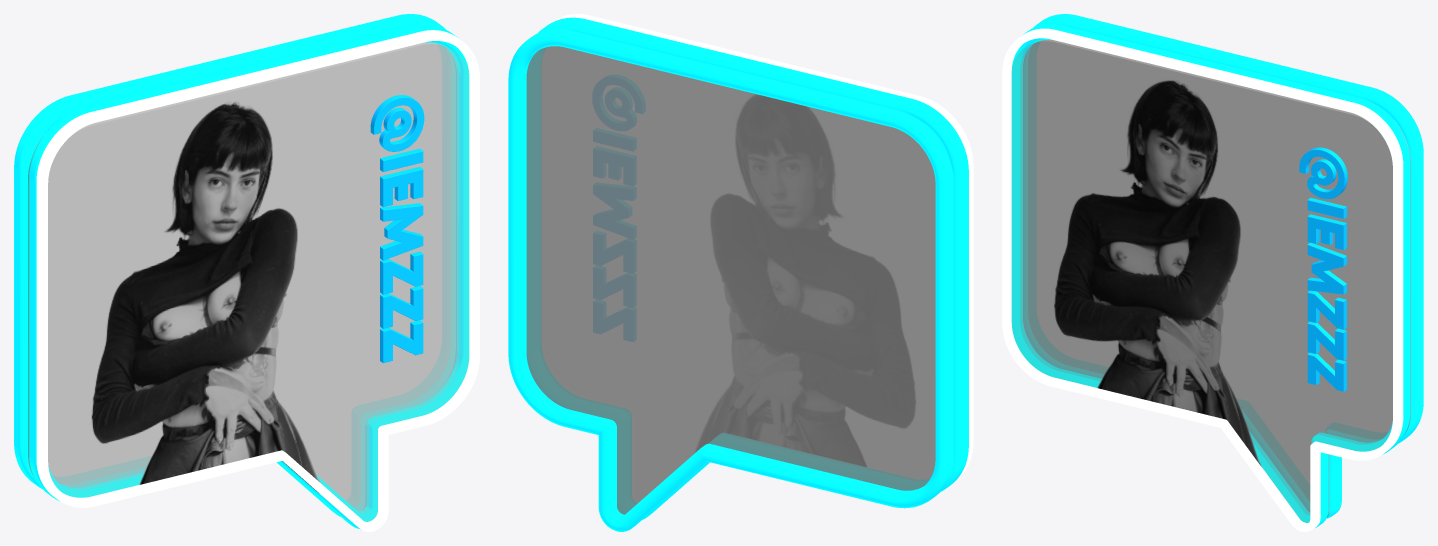
The model's file is bubble.glb.
3 renders of one model, left to right at view 1: azimuth 30°, elevation 25°; view 2: azimuth 150°, elevation 25°; view 3: azimuth 330°, elevation 25°, orthographic. The views are drawn at different scales.
Parts seen in each view (by area): view 1: sara, background, outer glow, back edge, front edge, groupNumber_6, groupNumber_5, groupNumber_4, groupNumber_3, groupNumber_1, groupNumber_2, groupNumber_0 7; view 2: background, sara, back edge, front edge, outer glow; view 3: sara, background, outer glow, back edge, front edge, groupNumber_6, groupNumber_5, groupNumber_4, groupNumber_3, groupNumber_1, groupNumber_2, groupNumber_0 7.
Boxes of the visible parts, box(x1,y1,x2,y2) form: sara: box(48, 43, 468, 529); background: box(28, 43, 456, 511); outer glow: box(36, 30, 479, 531); back edge: box(14, 14, 455, 516); front edge: box(29, 25, 469, 528); groupNumber_6: box(370, 95, 424, 151); groupNumber_5: box(380, 203, 423, 260); groupNumber_4: box(380, 167, 423, 207); groupNumber_3: box(380, 251, 423, 294); groupNumber_1: box(380, 320, 423, 363); groupNumber_2: box(380, 286, 423, 328); groupNumber_0 7: box(380, 148, 423, 171); background: box(526, 46, 935, 514); sara: box(695, 94, 915, 466); back edge: box(508, 28, 953, 531); front edge: box(527, 17, 968, 519); outer glow: box(551, 14, 973, 477); sara: box(1012, 40, 1392, 522); background: box(1023, 40, 1410, 517); outer glow: box(1002, 28, 1403, 531); back edge: box(1024, 14, 1423, 518); front edge: box(1011, 24, 1409, 527); groupNumber_6: box(1299, 147, 1347, 199); groupNumber_5: box(1307, 242, 1346, 294); groupNumber_4: box(1307, 214, 1346, 250); groupNumber_3: box(1307, 290, 1346, 329); groupNumber_1: box(1307, 352, 1346, 391); groupNumber_2: box(1307, 321, 1346, 360); groupNumber_0 7: box(1307, 197, 1346, 218).
Bounding box in the file's own units: 0.5 × 0.5263 × 0.0603.
Materials: 5 (1 with a texture image).
